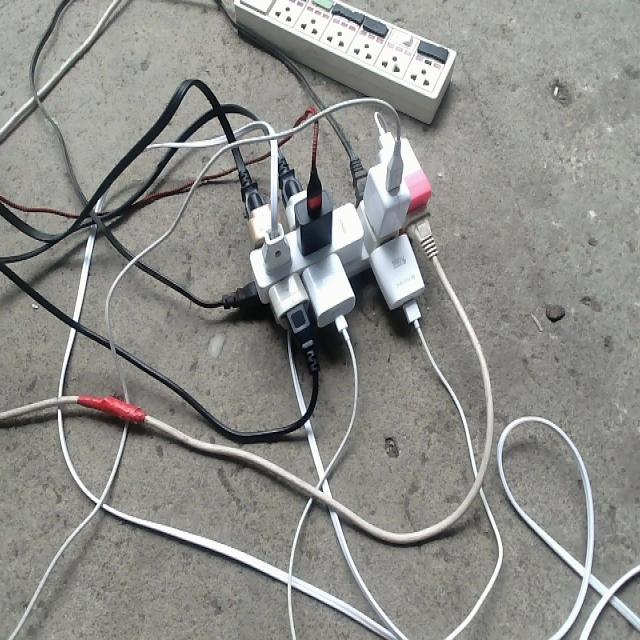-: (232, 116, 437, 372)
